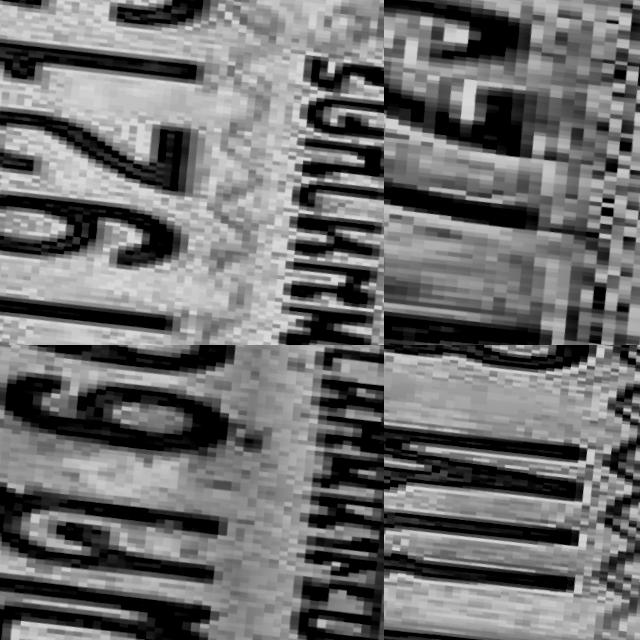license-plate: (0, 0, 384, 345), (0, 345, 384, 640), (384, 0, 640, 345), (384, 345, 640, 640)
